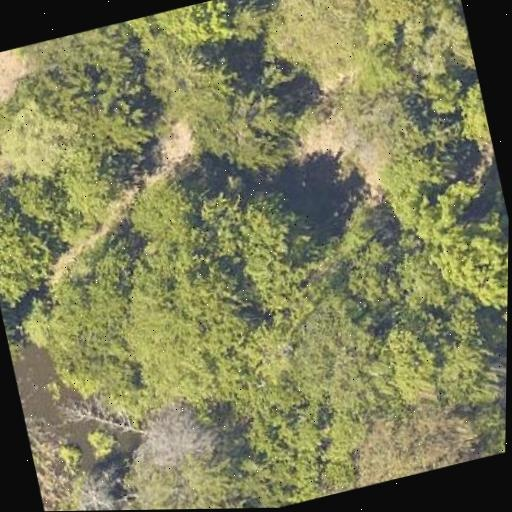tree-top: (113, 230, 262, 416), (32, 19, 168, 179), (207, 374, 348, 509), (218, 176, 337, 331), (375, 285, 508, 423), (168, 56, 307, 179), (281, 292, 399, 431), (333, 395, 493, 491), (253, 0, 384, 104), (373, 133, 488, 242), (319, 61, 439, 161), (8, 152, 122, 257), (318, 200, 409, 323), (120, 389, 222, 489), (424, 212, 509, 324), (124, 162, 214, 251), (382, 6, 477, 89), (342, 0, 468, 59), (0, 97, 84, 181), (0, 177, 48, 302), (147, 0, 243, 56), (53, 463, 140, 511), (451, 70, 496, 160), (415, 65, 472, 126), (487, 397, 506, 453)
